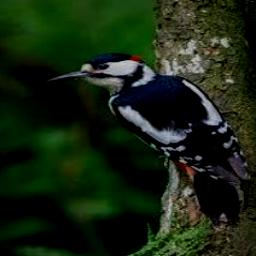Woodpecker: (47, 52, 251, 228)
